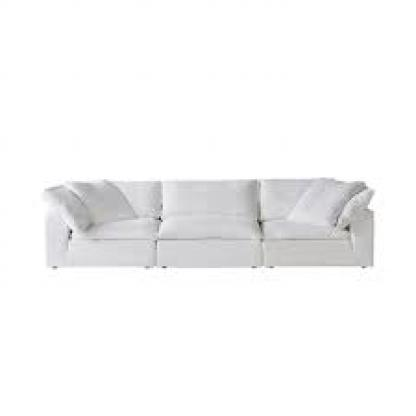sofa: (44, 172, 376, 279)
